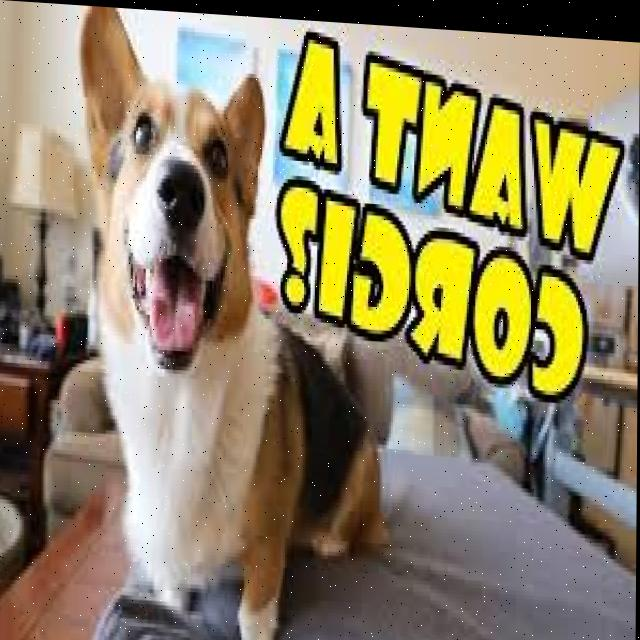CORGI: (55, 7, 396, 640)
